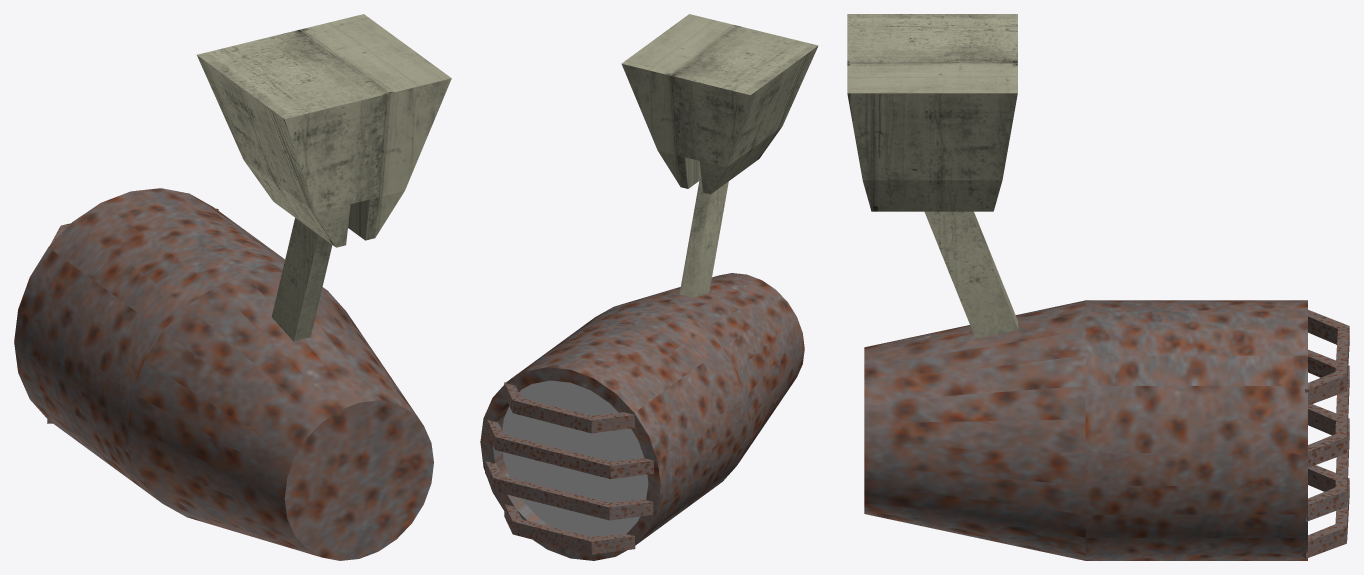
File: SM_Lamp_Projo_00.fbx
3 renders of one model, left to right at view 1: azimuth 30°, elevation 25°; view 2: azimuth 150°, elevation 25°; view 3: azimuth 270°, elevation 25°, orthographic. The views are drawn at different scales.
Parts seen in each view (by area): view 1: SM_Lamp_Projo_01, SM_Lamp_Projo_00; view 2: SM_Lamp_Projo_01, SM_Lamp_Projo_00; view 3: SM_Lamp_Projo_01, SM_Lamp_Projo_00.
Part boxes in pixels (x1,y1,x2,y2): SM_Lamp_Projo_01: [14, 188, 433, 560]; SM_Lamp_Projo_00: [197, 14, 451, 247]; SM_Lamp_Projo_01: [480, 172, 804, 560]; SM_Lamp_Projo_00: [621, 14, 818, 194]; SM_Lamp_Projo_01: [864, 211, 1349, 560]; SM_Lamp_Projo_00: [847, 14, 1017, 211].
Size of the model in its own units: 36.9 by 77.11 by 70.84.
